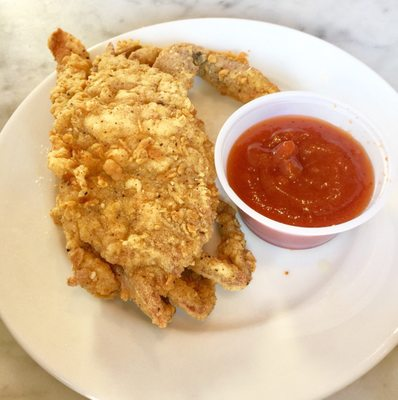sushi: (213, 90, 390, 251)
